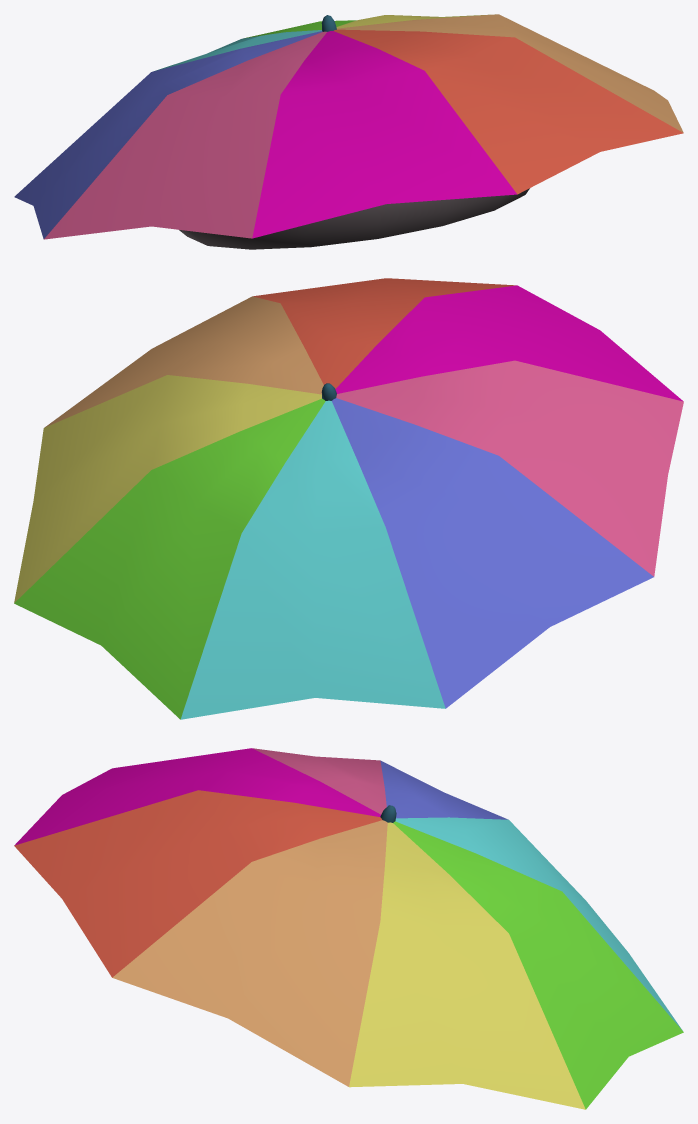
File: hat_umbel.fbx
3 views of the same model, one above another, from view 1: azimuth 30°, elevation 25°; view 2: azimuth 150°, elevation 25°; view 3: azimuth 270°, elevation 25° (orthographic).
Visible parts, largest first — view 1: hat_umbel; view 2: hat_umbel; view 3: hat_umbel.
Boxes of the visible parts, x1=… form: hat_umbel: x1=14, y1=14, x2=683, y2=249; hat_umbel: x1=14, y1=278, x2=683, y2=719; hat_umbel: x1=14, y1=748, x2=683, y2=1109.
Size of the model in its own units: 1.49 by 0.5685 by 1.42.
